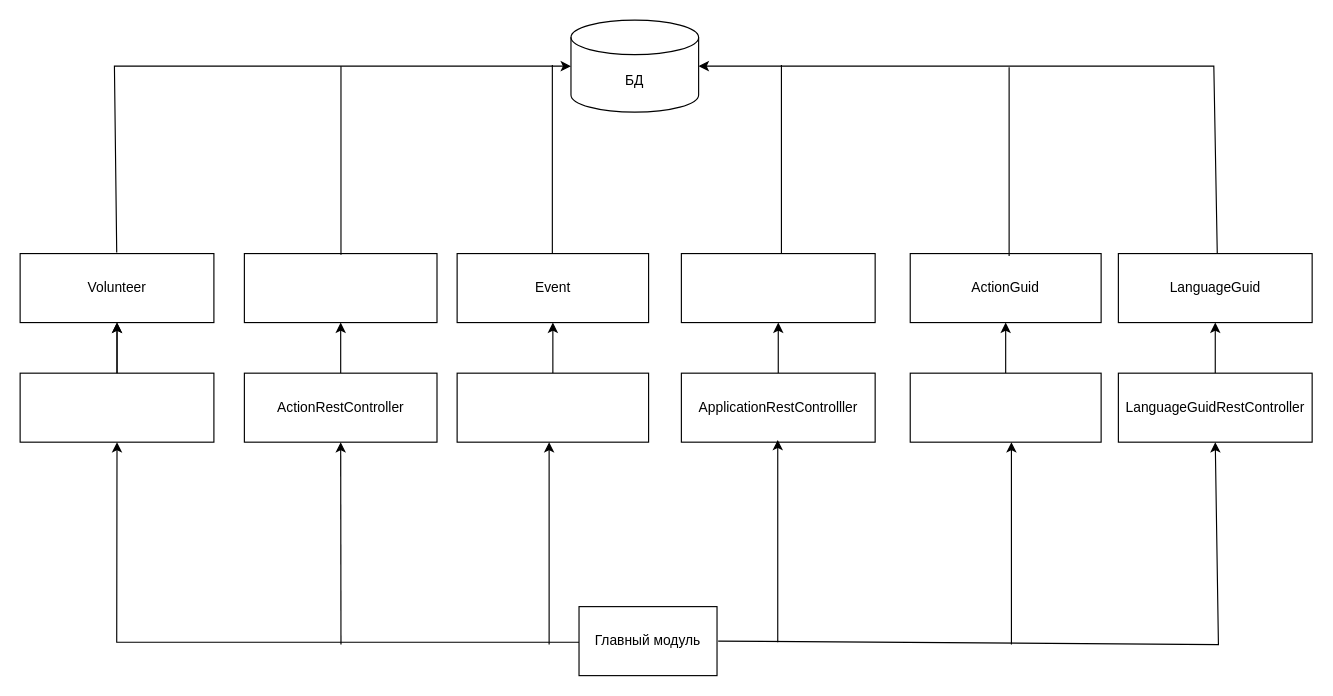
This 1333x696 diagram has some shape labels left out. The box of each missing label's shape, as (x1, y1, x2, y2) in pixels:
Action: (243, 252, 437, 323)
ActionGuidRestController: (909, 372, 1101, 442)
Application: (680, 252, 875, 323)
EventRestController: (456, 372, 649, 442)
VolunteerRestController: (19, 372, 214, 442)
